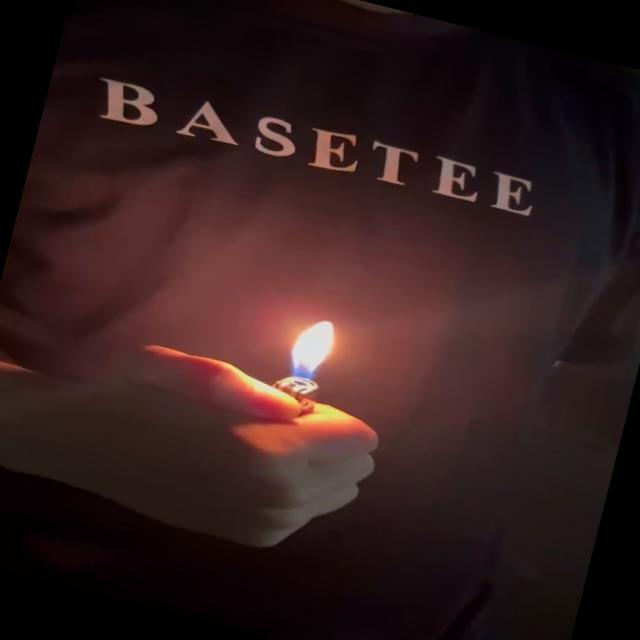Fire: (280, 311, 346, 395)
